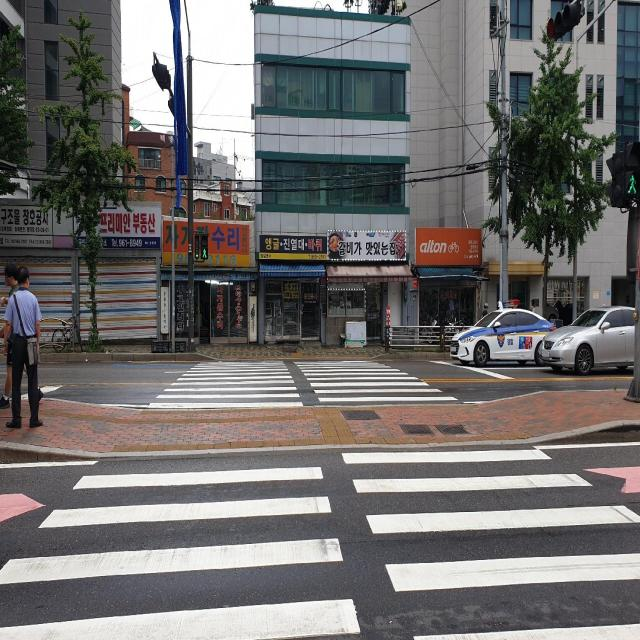zebra crossing ahead at: (0, 436, 639, 640)
